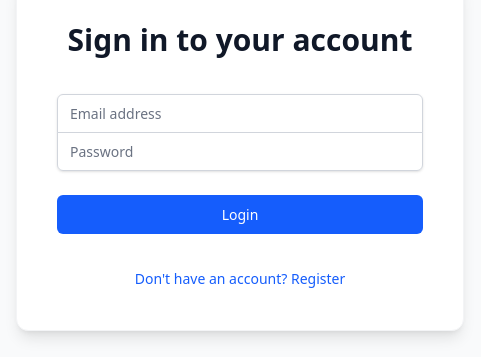
Test: AuthPage › toggles between Login and Register modes
Expected: the heading "Sign in to your account" is shown, [57,16,423,62]
// Click toggle button
Click the button "Don't have an account? Register".
click(240, 278)  # box [135,268,345,288]
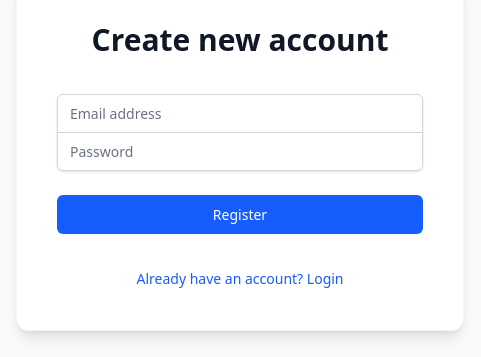
Expected: the heading "Create new account" is shown, [92,18,388,60]
